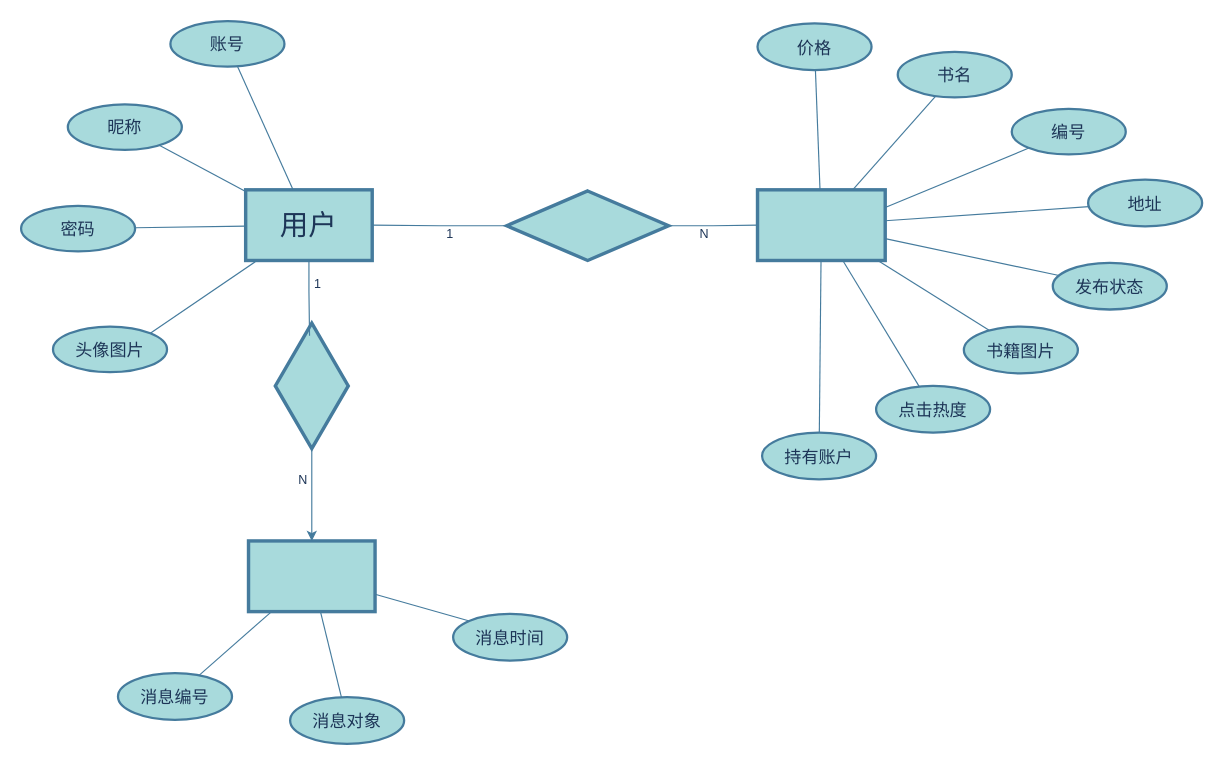
Image size: 1222x764. Some labels were removed from this diagram. Each missing label, with the box of its shape:
书籍: (755, 188, 886, 262)
发布&搜索: (504, 189, 670, 262)
查看: (273, 321, 349, 450)
消息: (246, 539, 376, 613)
